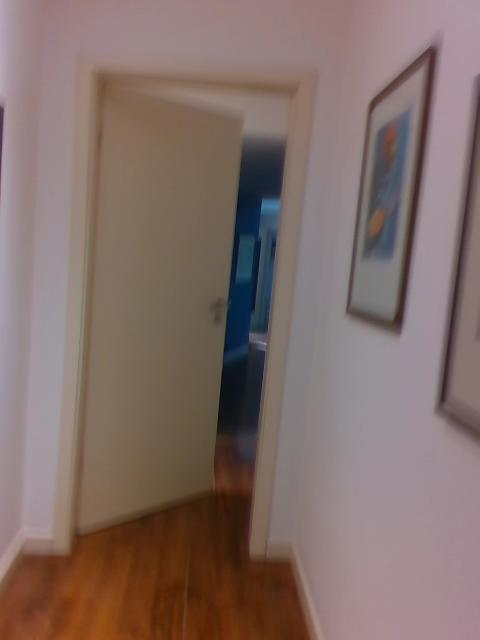semi_door: (49, 52, 316, 559)
